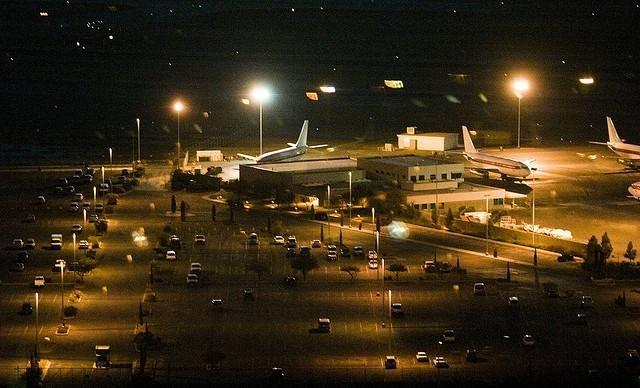car: (327, 244, 337, 260), (210, 299, 224, 310), (415, 350, 429, 360), (186, 274, 198, 285), (190, 262, 201, 274), (286, 236, 298, 247), (339, 248, 352, 256), (195, 235, 205, 244), (166, 251, 176, 260), (368, 260, 378, 269), (274, 236, 284, 244), (312, 240, 322, 247), (392, 303, 402, 308)
truck: (94, 345, 110, 369), (168, 234, 182, 247), (51, 234, 63, 249), (318, 318, 330, 332), (186, 273, 198, 286), (33, 275, 45, 288)
